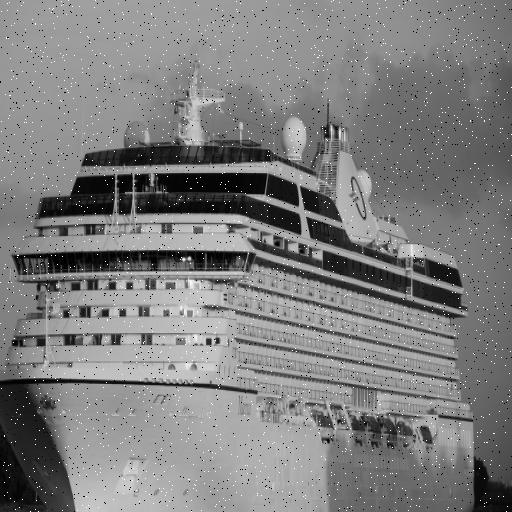cruises: (1, 55, 480, 512)
